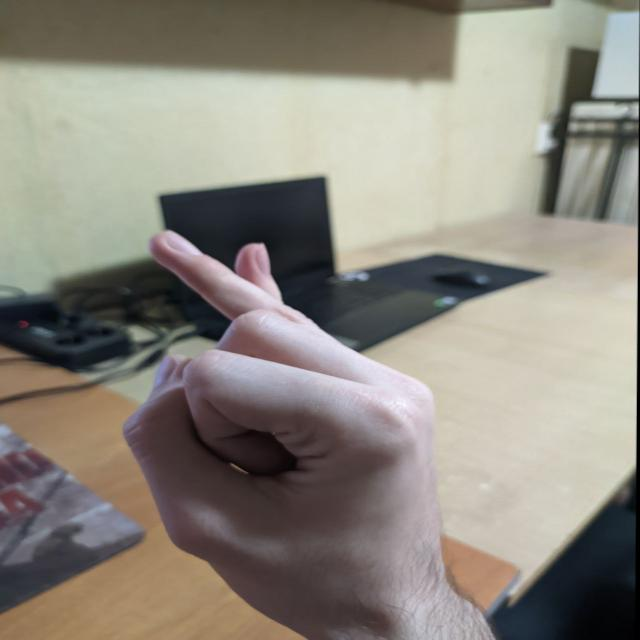i-: (88, 218, 462, 574)
